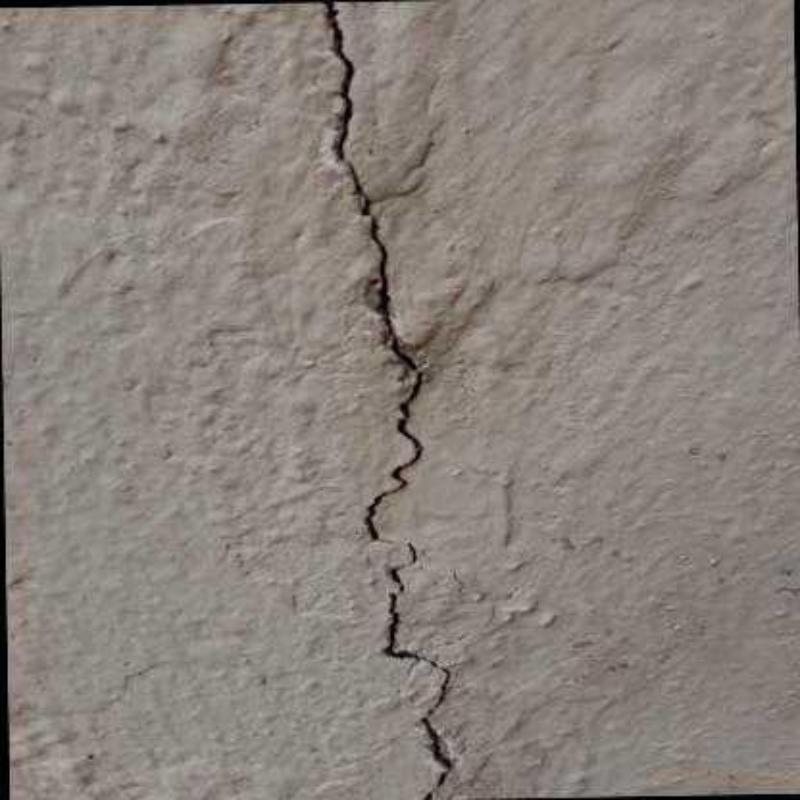pothole: (315, 1, 460, 800)
